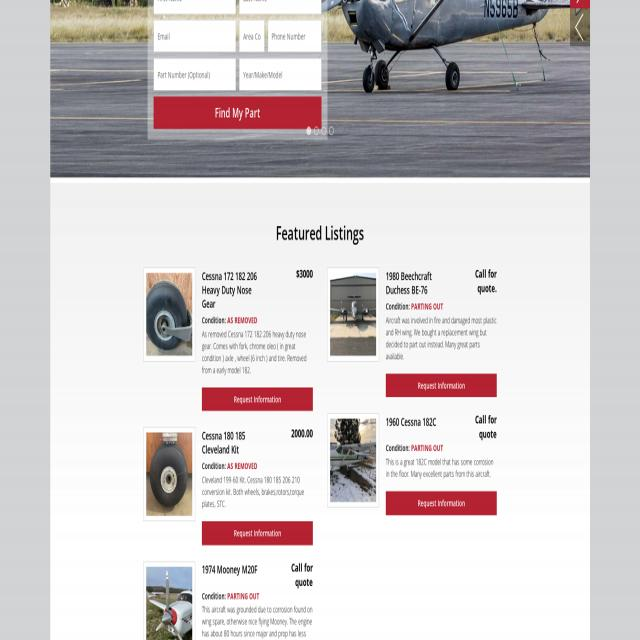button: (154, 97, 322, 129), (146, 432, 192, 516), (146, 273, 192, 356), (330, 273, 376, 356), (330, 419, 376, 502), (146, 566, 193, 640), (202, 387, 313, 411), (386, 491, 497, 515), (202, 521, 313, 545), (386, 374, 497, 397), (570, 8, 590, 46), (306, 127, 312, 134), (314, 127, 319, 134), (329, 127, 334, 134), (322, 127, 326, 134)
field: (154, 20, 236, 53), (154, 58, 236, 91), (239, 58, 321, 91), (268, 20, 321, 53), (154, 0, 236, 15), (239, 0, 321, 15), (240, 20, 264, 53)
